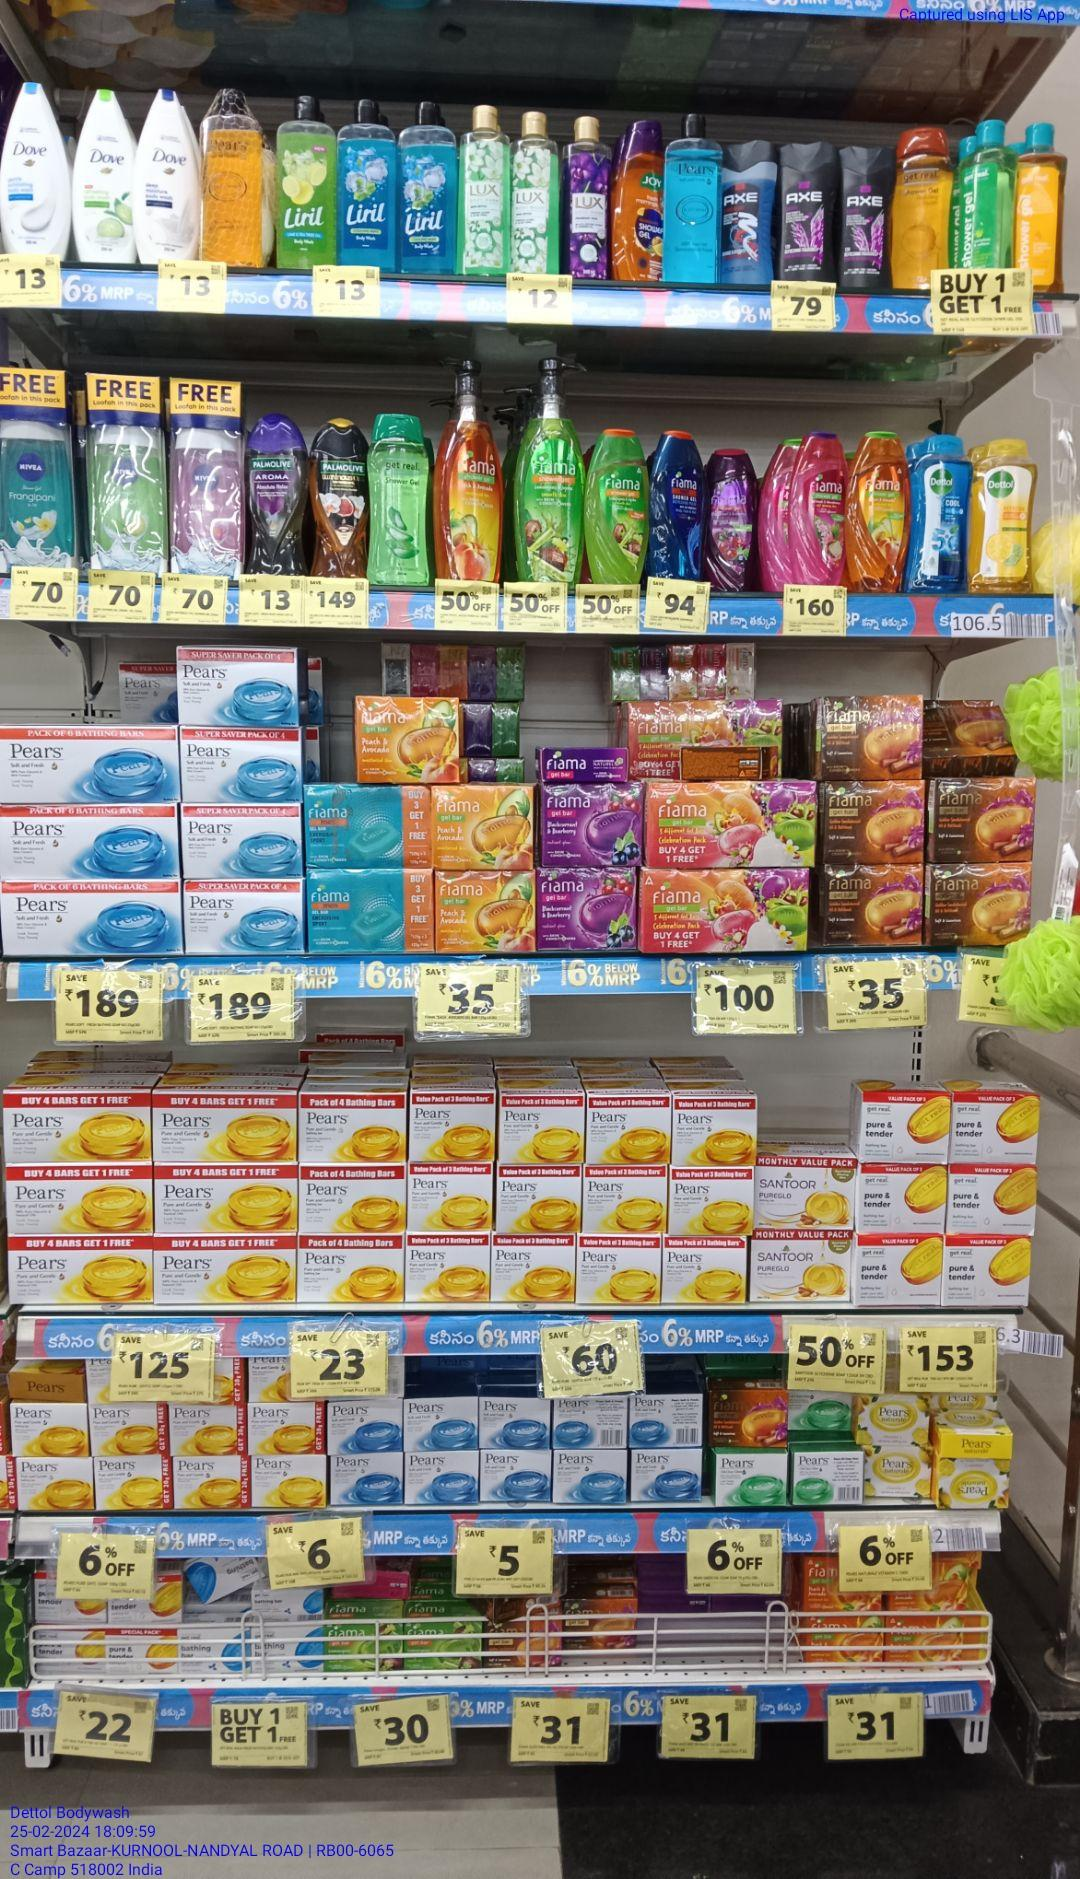Dettol_Bodywash_Cool: (916, 435, 972, 591)
Dettol_Bodywash_Refresh: (977, 439, 1039, 596)
Dove_Deep_Moisture_Body_Wash_250ML: (141, 86, 199, 266)
Dove_Gentle_Exfoliating_Body_Wash_250ML: (4, 80, 70, 262)
Dove_Refreshing_Body_Wash_250ML: (70, 88, 135, 265)
Fiama_Shower_Gel_Lemongrass_and_Jojoba_250ML: (587, 428, 646, 587)
Fiama_Shower_Gel_Patchouli_and_Macadamia_250ML: (794, 430, 849, 587)
Fiama_Shower_Gel_Peach_and_Avocado_250ML: (853, 434, 911, 591)
Get_Real_Shower_Gel_Moisturising_Glycerin_300ML: (894, 125, 951, 290)
Joy_Shower_Gel_Mandarin_and_Lemongrass_250ML: (614, 121, 662, 281)
Liril_Cooling_Mint_Body_Wash_250ML: (399, 98, 461, 275), (338, 97, 399, 265)
Liril_Lime_and_Tea_Tree_Oil_Body_Wash_250ML: (272, 93, 335, 270)
Lux_Black_Orchid_Scent_and_Juniper_Oil_Body_Wash_245ML: (568, 116, 608, 277)
Lux_Body_Wash_Skin_Detox_Freesia_Scent_and_Alove_Vera_245ML: (466, 103, 510, 274), (516, 108, 559, 271)
Nivea_Shower_Gel_Frangipani_and_Oil_250ML: (3, 426, 75, 573)
Nivea_Shower_Gel_Lemon_and_Oil_250ML: (85, 427, 169, 576)
Nivea_Shower_Gel_Waterlily_and_Oil_250ML: (174, 427, 244, 572)
Palmolive_Aroma_Relax_250ML: (249, 414, 307, 576)
Palmolive_Luminous_Oils_With_White_Orchid_Shower_Gel_250ML: (311, 418, 365, 573)
Pears_Pure_Glycerin_and_Mint_Extracts_Body_Wash_250ML: (663, 112, 719, 283)
